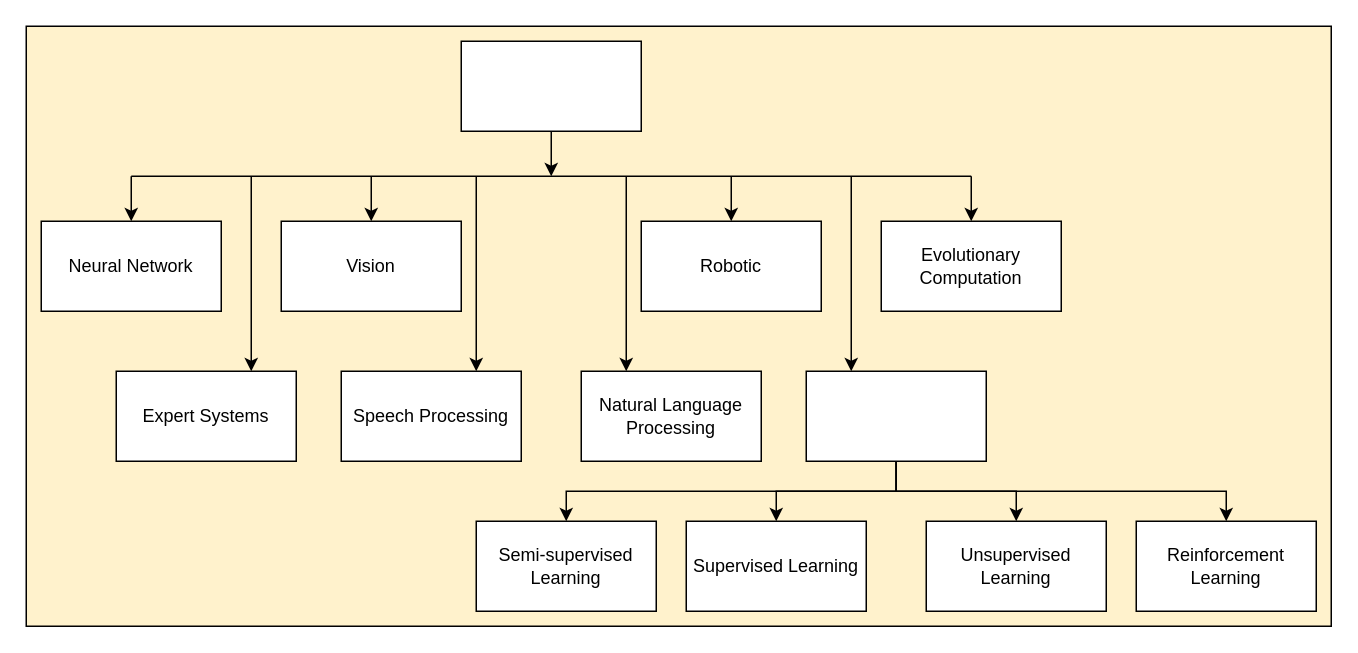
The diagram is 1358 pixels wide and 653 high, and some of its shapes have lost their labels. Each missing label, with the centre of its shape:
Artificial Intelligence: the point at 550,85
Machine Learning: the point at 895,415
